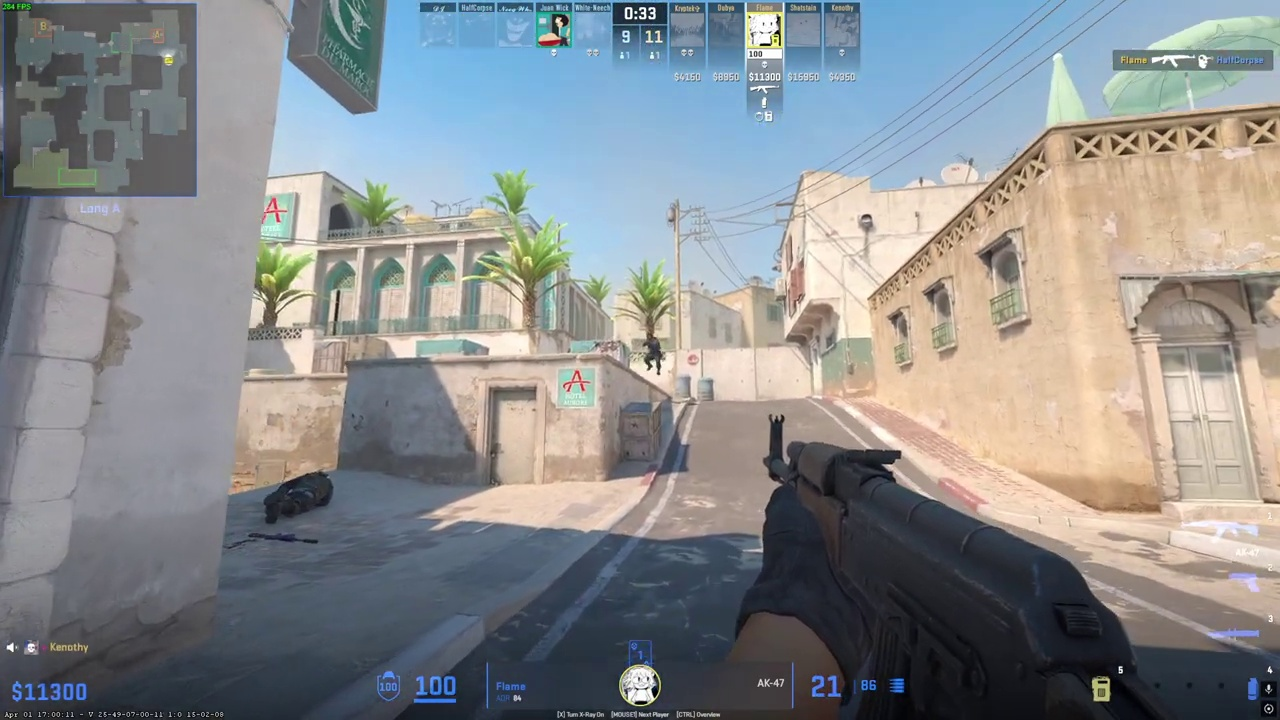CT: (643, 332, 663, 375)
